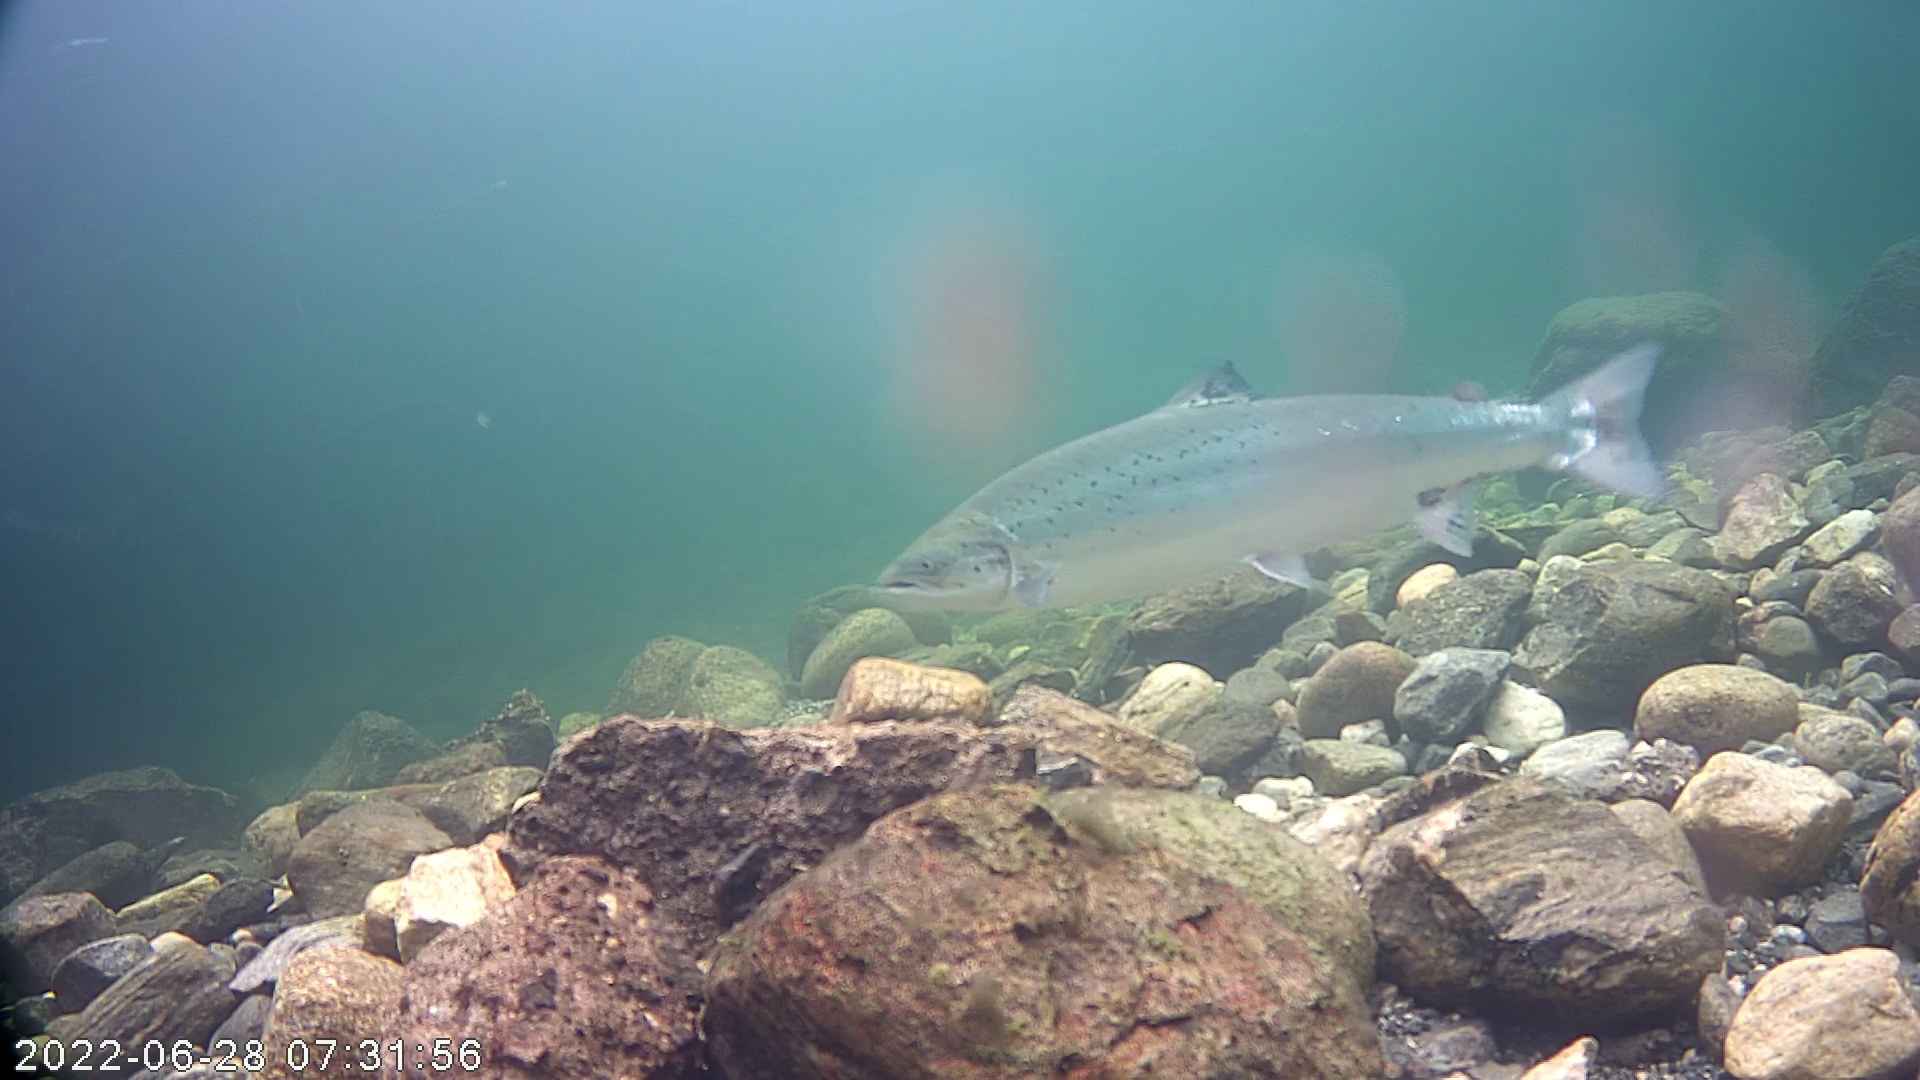salmon: (872, 236, 1696, 655)
